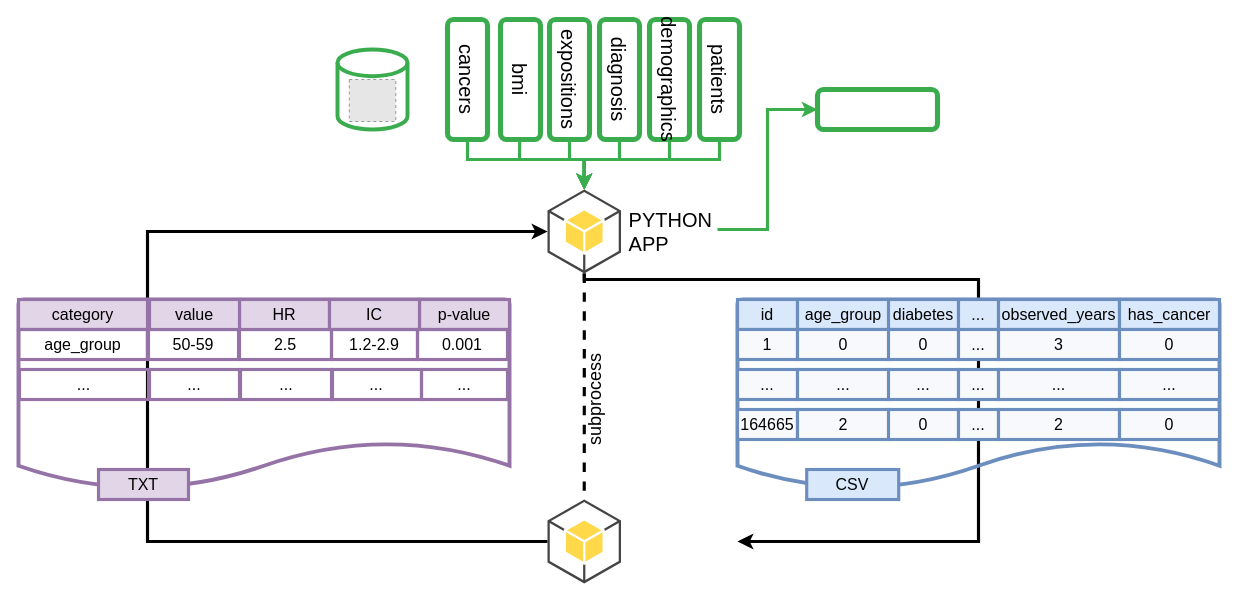
Some shapes in this 1239 by 603 pixel diagram are drawn without their labels. Grey dashed boxes stand in for pictures. The box of each missing label's shape, as (x1, y1, x2, y2) in pixels:
R SCRIPT CoxPH: (545, 497, 622, 584)
results: (814, 86, 940, 132)
